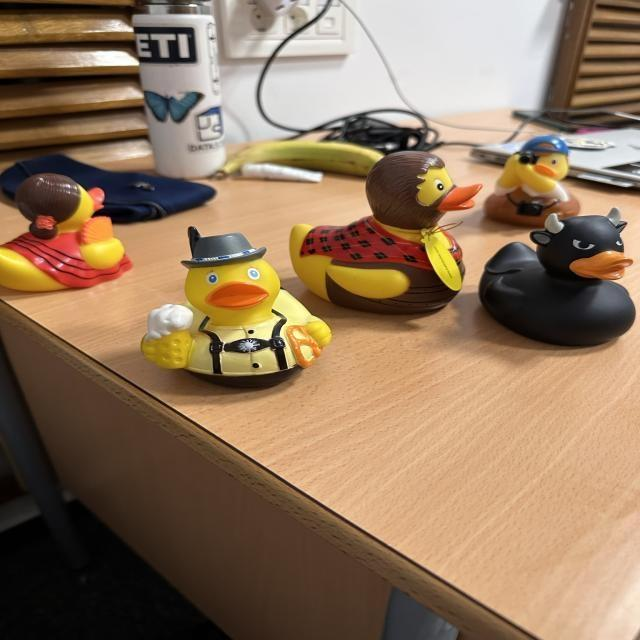rubber-duck: (140, 226, 330, 382), (299, 150, 480, 311), (509, 207, 633, 343), (0, 172, 121, 289), (483, 134, 578, 225)
